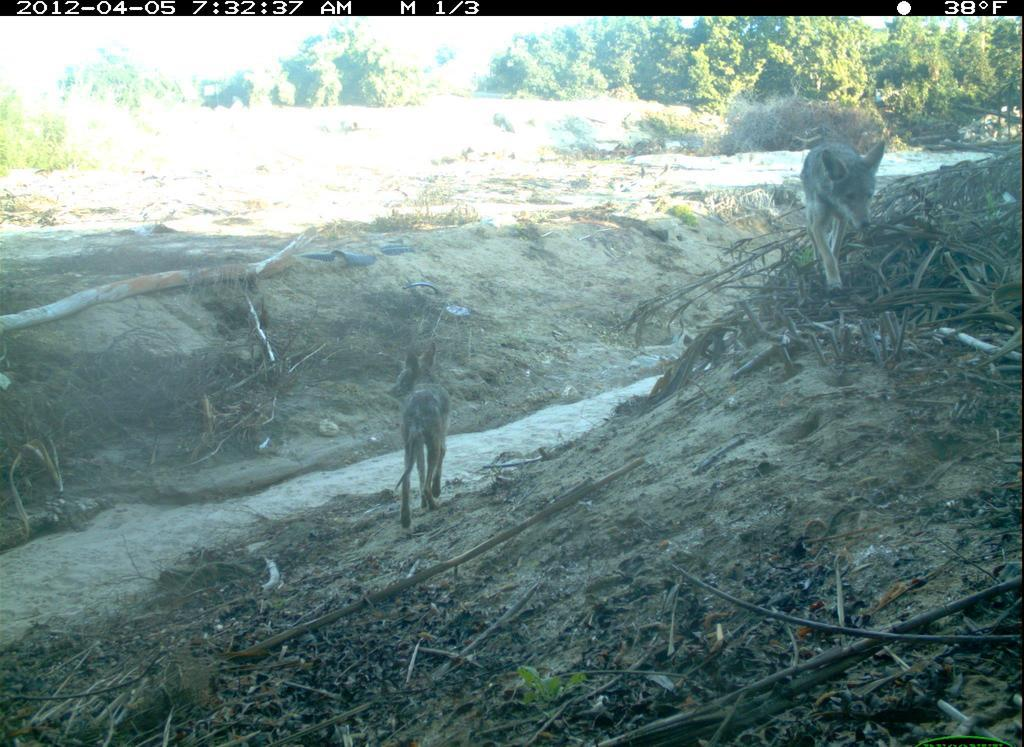coyote: (379, 340, 492, 529), (788, 114, 900, 296)
